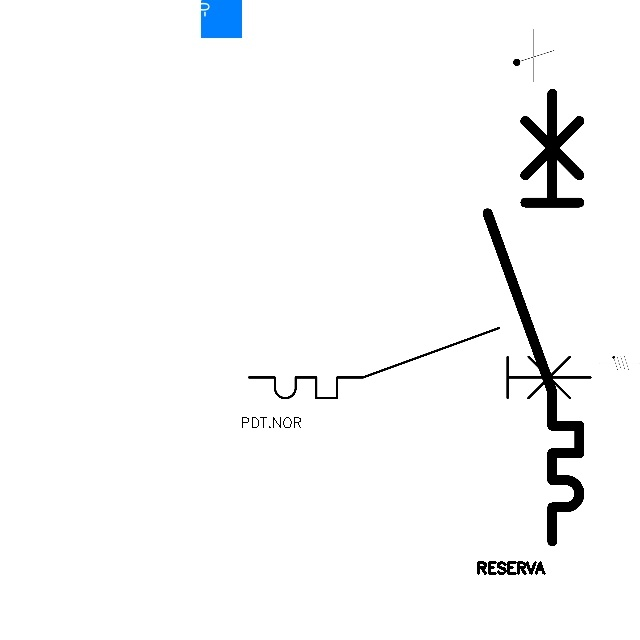interruptor_termomagnetico: (476, 82, 591, 553), (240, 319, 599, 407)
